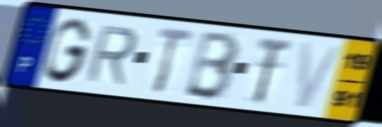B: (181, 30, 242, 103)
G: (42, 16, 94, 85)
R: (83, 24, 140, 87)
T: (251, 35, 295, 106), (152, 25, 196, 96)
V: (295, 40, 345, 111)
